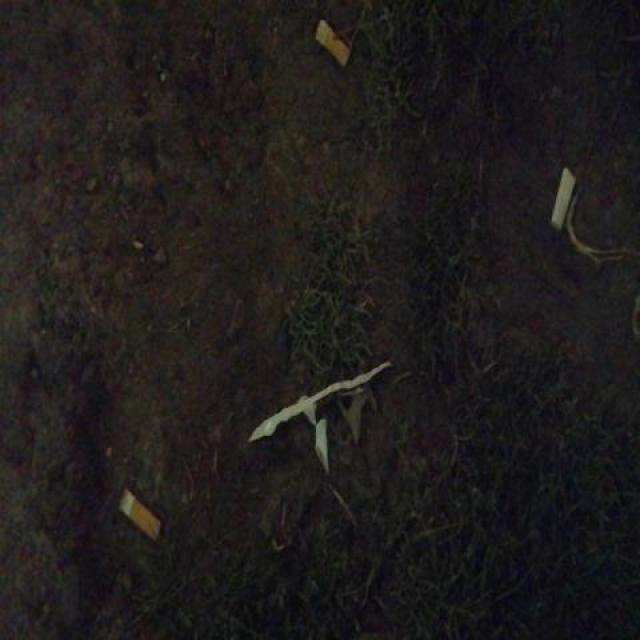non-organic waste: (115, 483, 165, 549), (309, 15, 355, 72), (547, 160, 577, 235)
